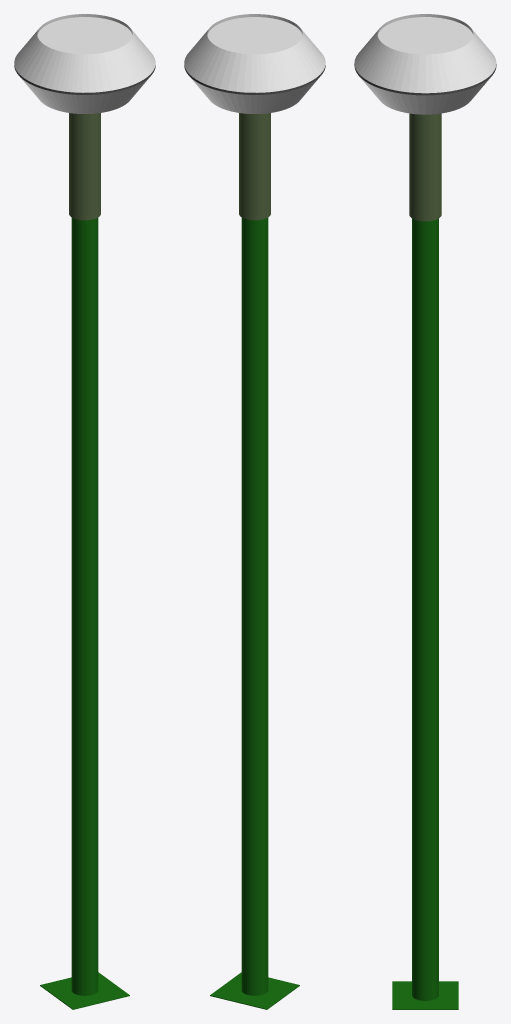
Rendered from PosteLuz.fbx.
The picture shows the model from 3 angles, left to right: view 1: azimuth 30°, elevation 25°; view 2: azimuth 150°, elevation 25°; view 3: azimuth 270°, elevation 25°; orthographic projection.
Parts seen in each view (by area): view 1: Plane; view 2: Plane; view 3: Plane.
Part boxes in pixels (<box>): Plane: <box>14,14,155,1009</box>; Plane: <box>184,14,325,1009</box>; Plane: <box>354,14,496,1009</box>.
Bounding box in the file's own units: 0.4287 × 0.4287 × 3.2.
